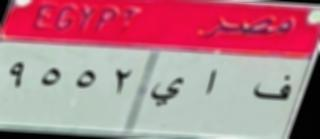2: (107, 67, 138, 102)
5: (70, 64, 100, 96), (37, 62, 63, 96)
9: (2, 57, 29, 94)
alif: (194, 67, 227, 102)
faa: (244, 72, 299, 102)
yaa: (150, 72, 186, 110)
